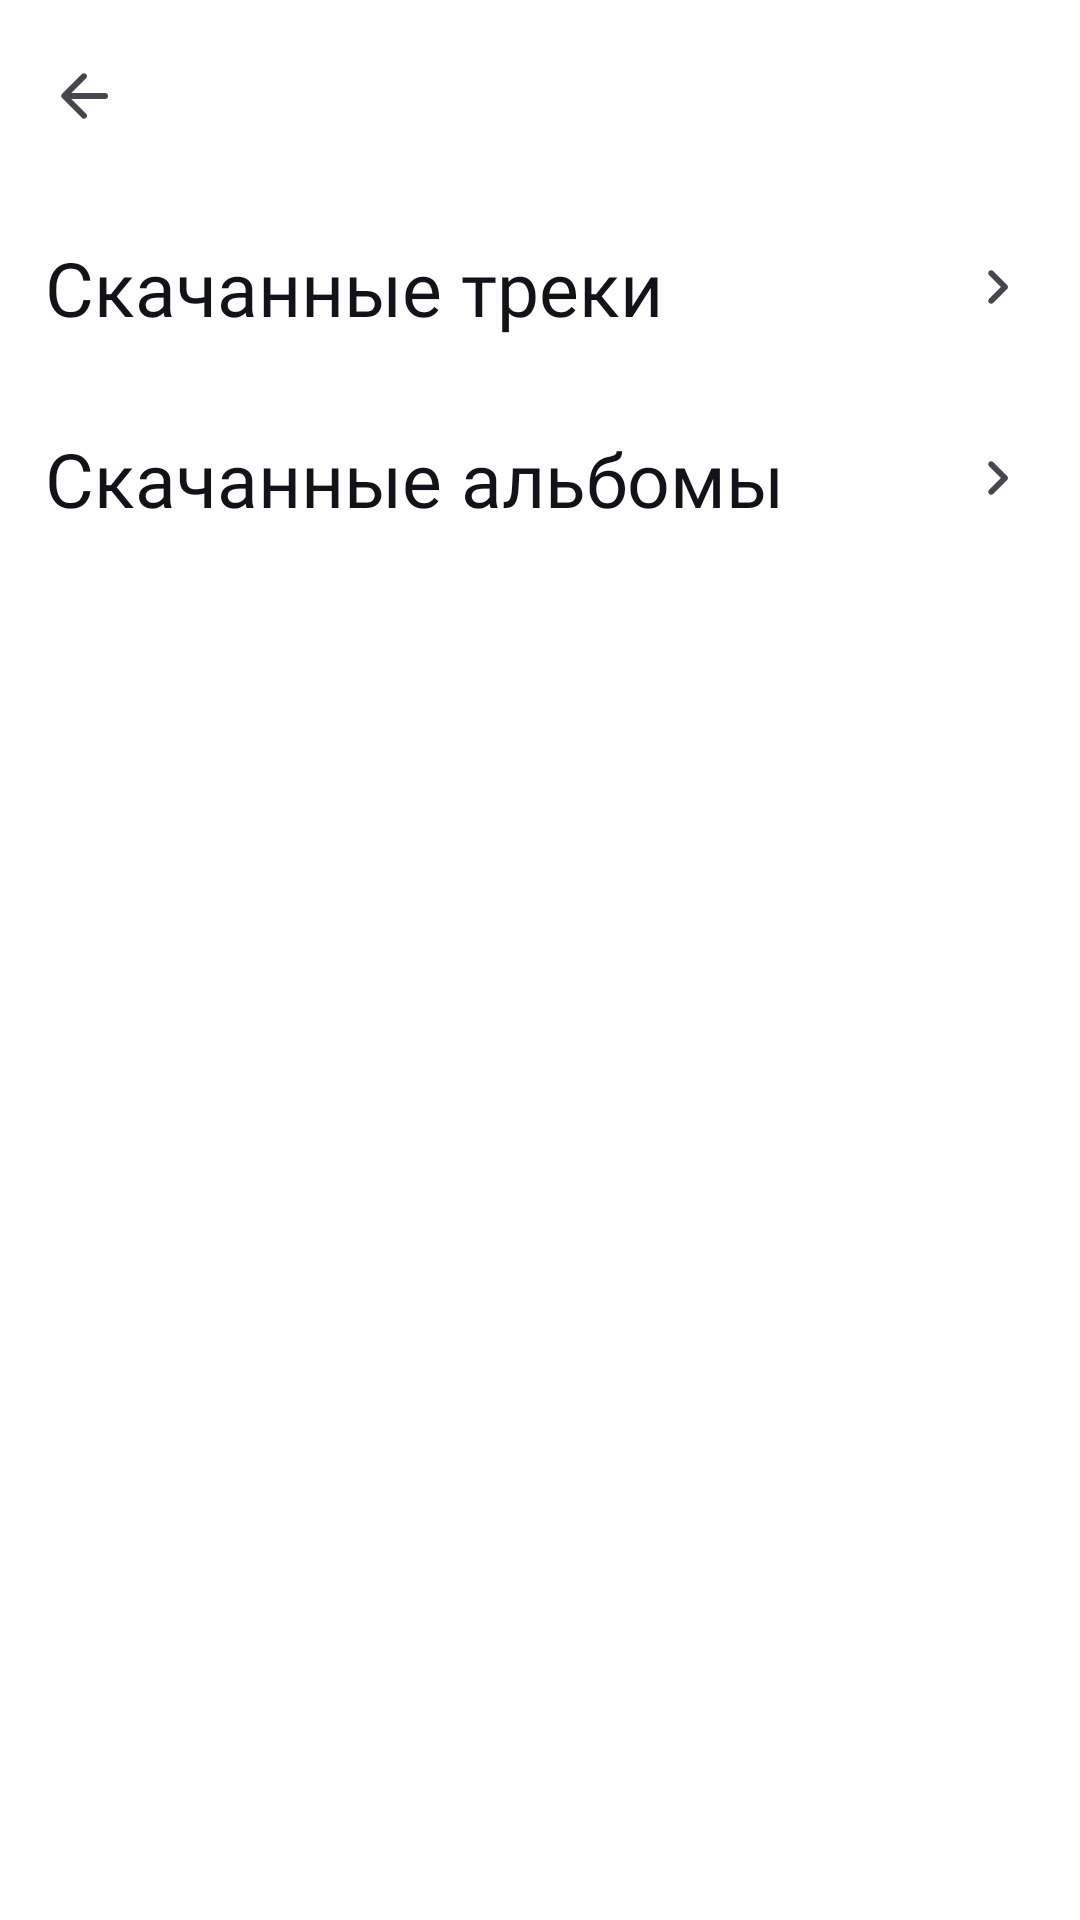

Icons on this 1080 x 1920 Android screen, each with the point to tap as point (x, y):
chevron right: point (998, 287), point (998, 478)
